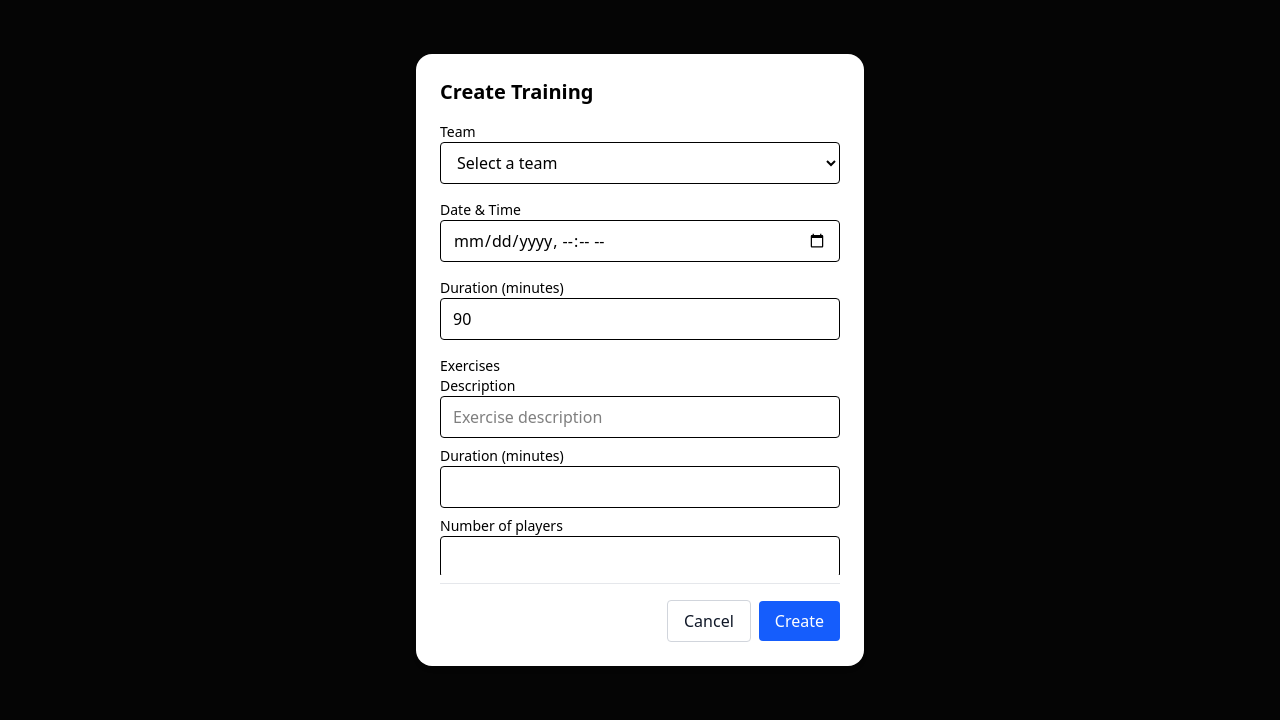
Scenario: blocks submission with a clear message when the selected team no longer exists (edge case)
Select "Amadora Sub-11" in the dropdown. click: (640,163)
box: [440,142,840,184]
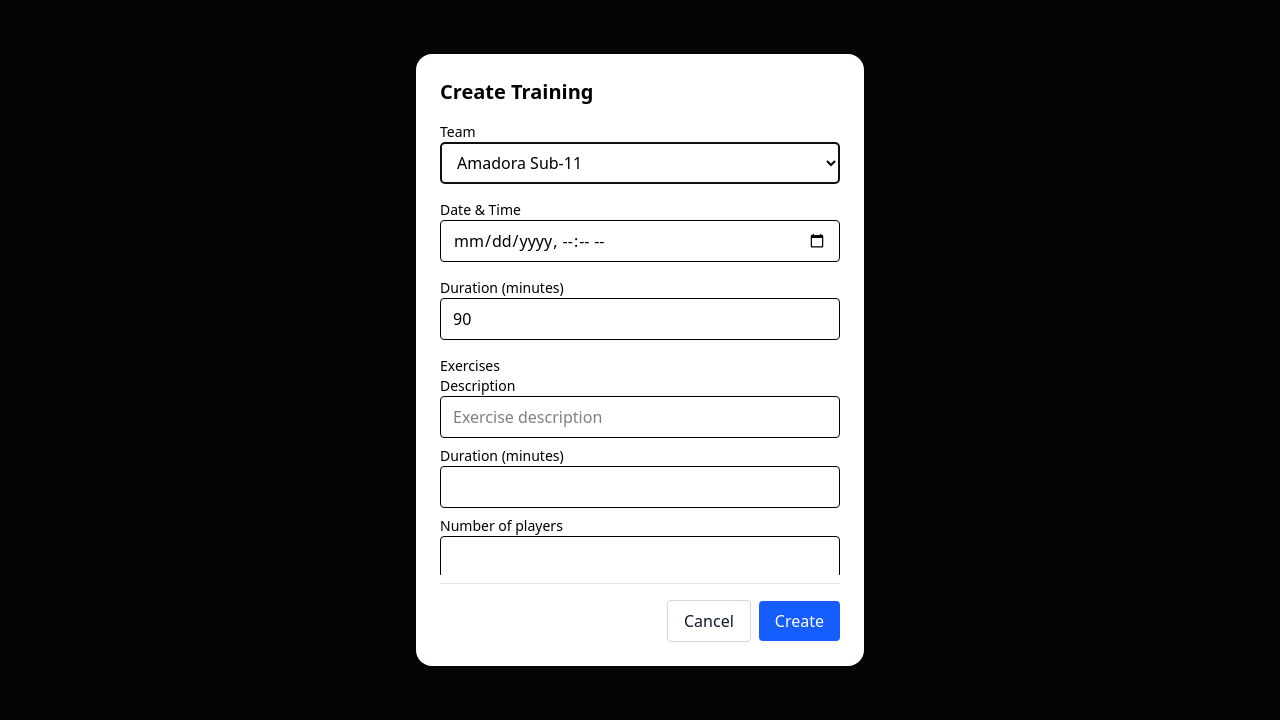
Type "2027-01-01T10:00" into the field named "day". click: (640,241)
box: [440,220,840,262]
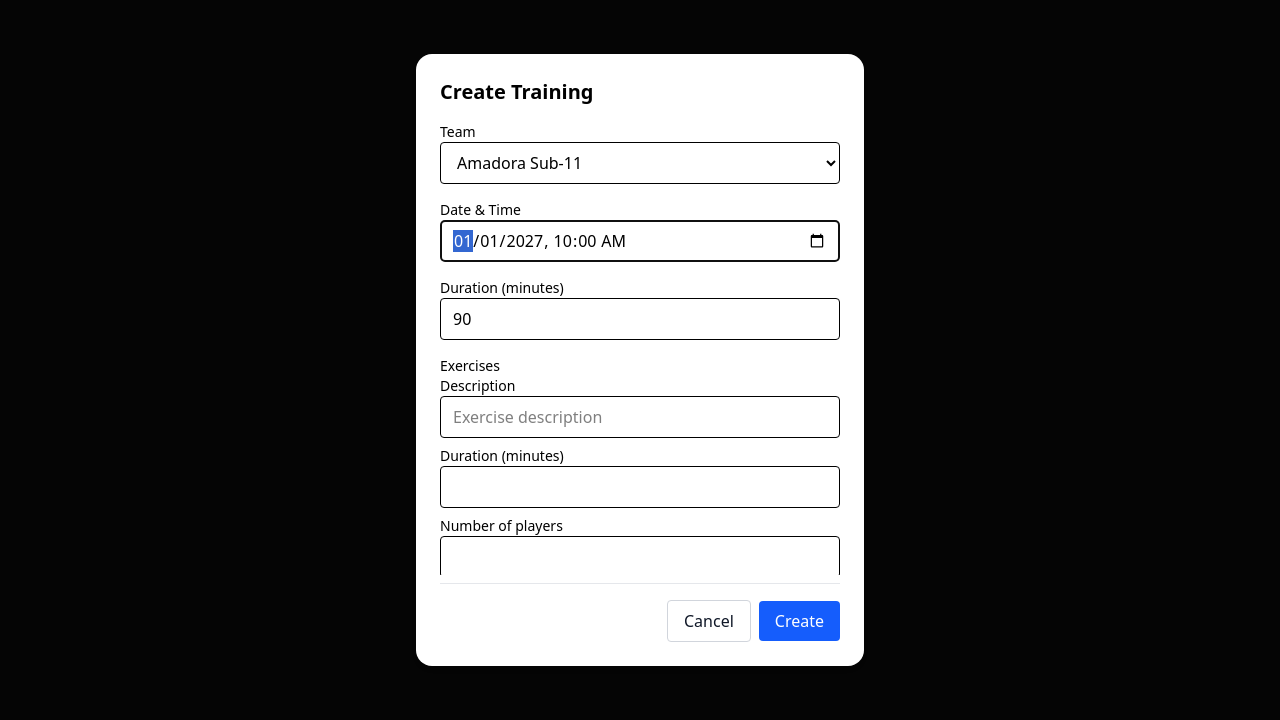
Click the button "Create". click: (799,621)
box: [759,601,840,641]
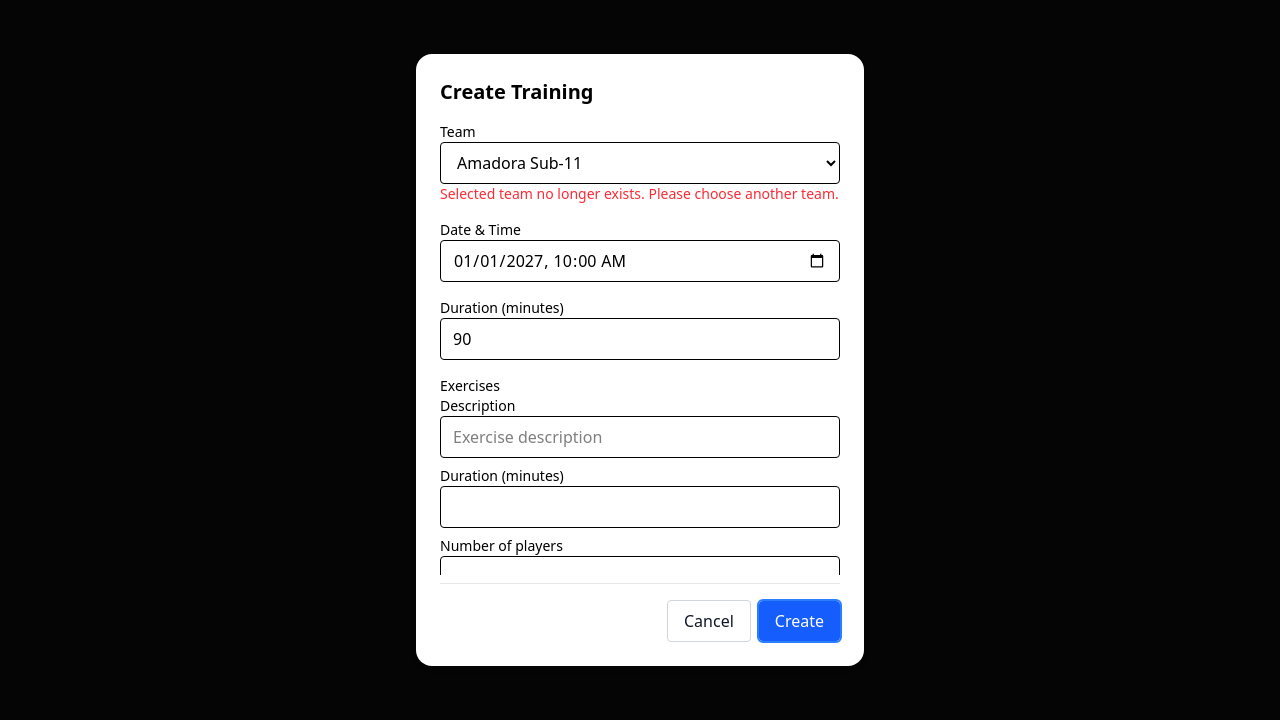
Expected: the text "Selected team no longer exists. Please choose another team." is shown, [440,184,840,204]
